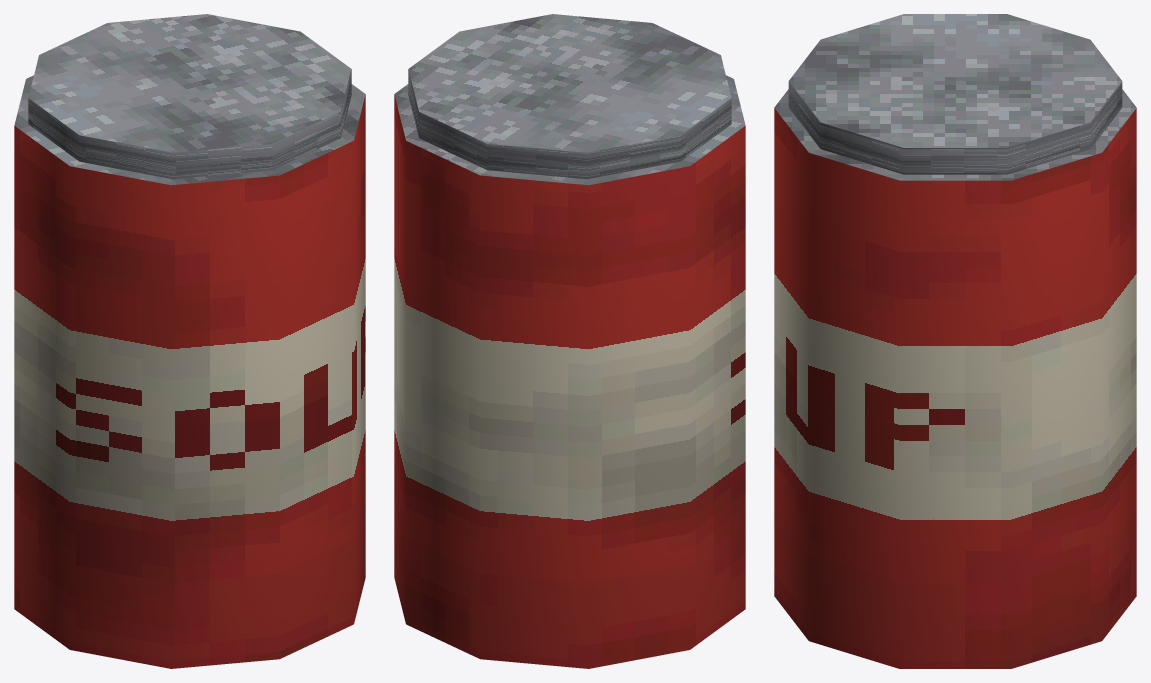
File: can_soup.glb
3 views of the same model, side by side, from view 1: azimuth 30°, elevation 25°; view 2: azimuth 150°, elevation 25°; view 3: azimuth 270°, elevation 25° (orthographic).
Parts seen in each view (by area): view 1: can_soup; view 2: can_soup; view 3: can_soup.
Part boxes in pixels (box(x1,y1,x2,y2)): can_soup: box(14, 14, 365, 668); can_soup: box(394, 14, 745, 668); can_soup: box(774, 14, 1136, 668).
Size of the model in its own units: 0.0704 by 0.116 by 0.074.
Materials: 1 (1 with a texture image).
